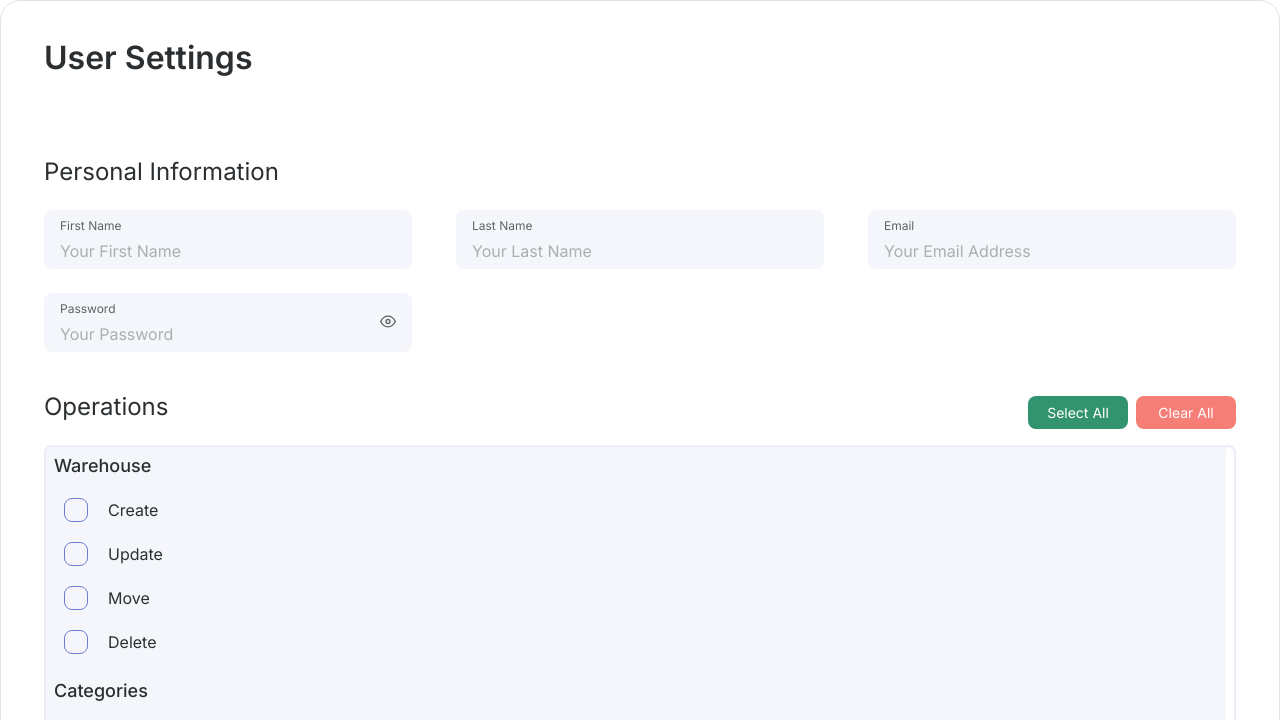
Test: UserForm.vue › clears email error after valid input on blur
Type "wrong" into the field with placeholder "Your Email Address" at (1052,251), box [884,241,1220,261]
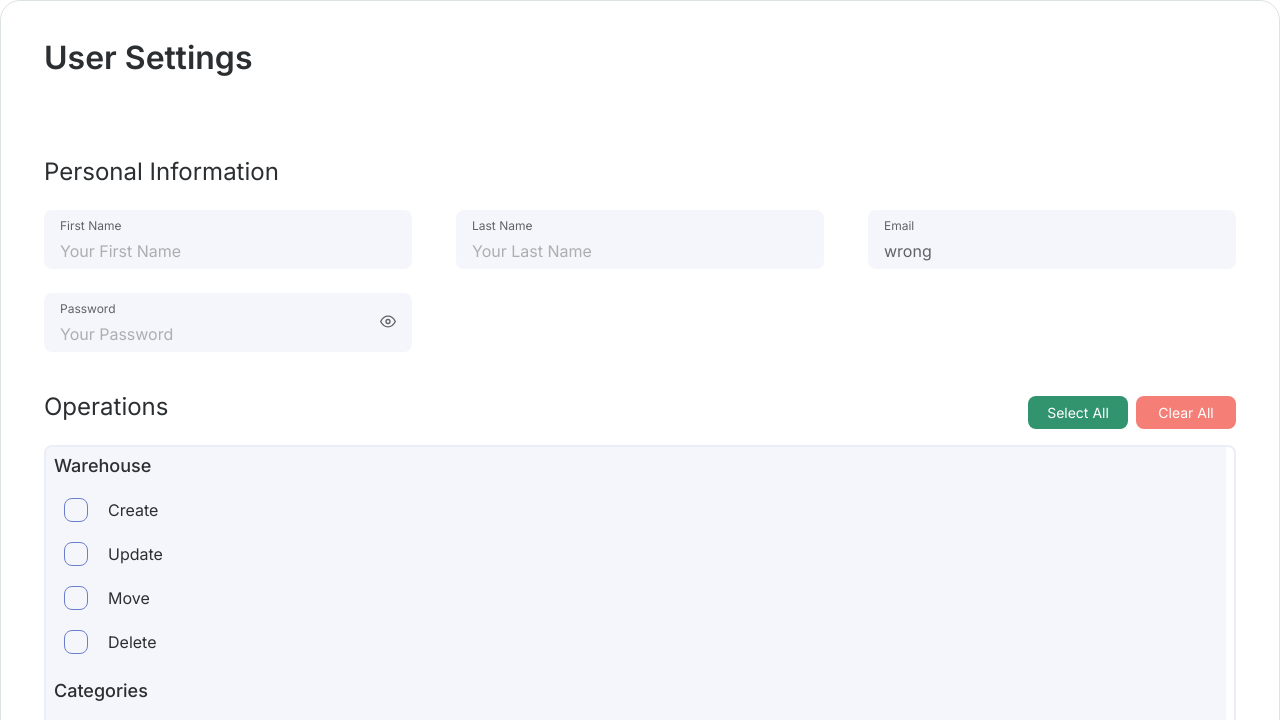
Leave the field with placeholder "Your Email Address", box [884,241,1220,261]
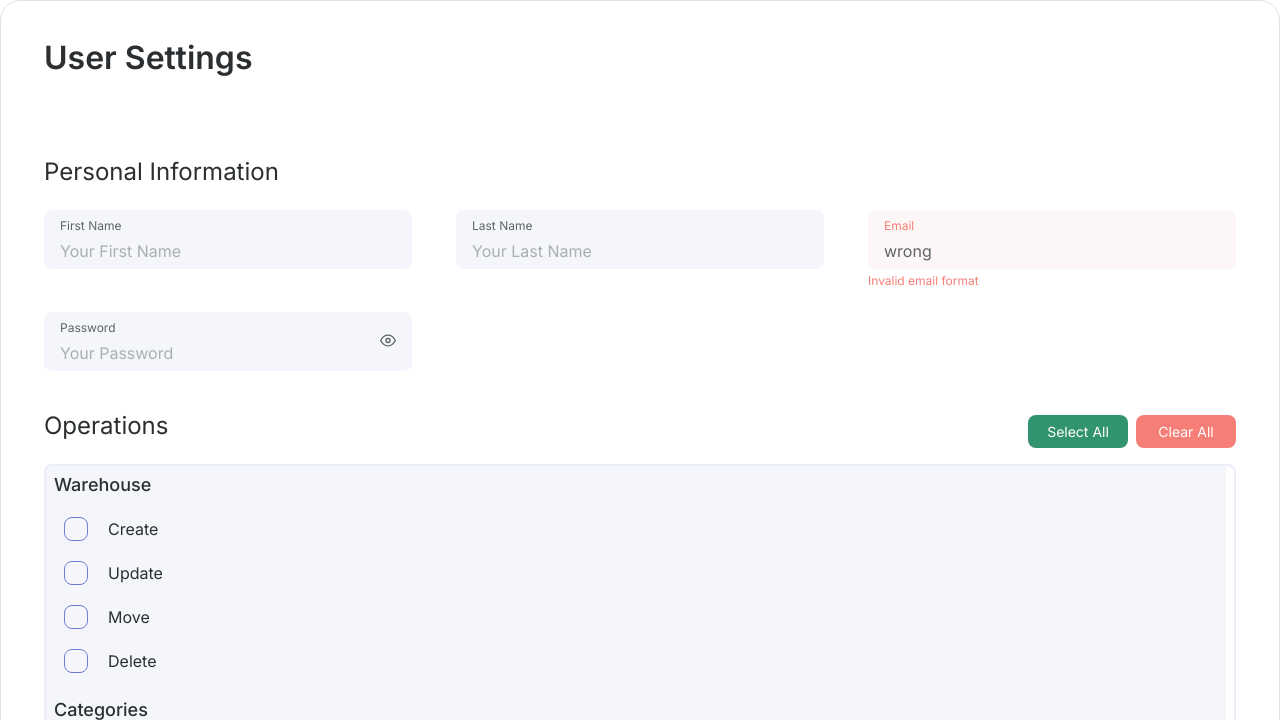
Check: the text "Invalid email format" is shown, box [868,273,979,288]
Replace the text in the field with placeholder "Your Email Address" with "correct@email.com" at (1052,251), box [884,241,1220,261]
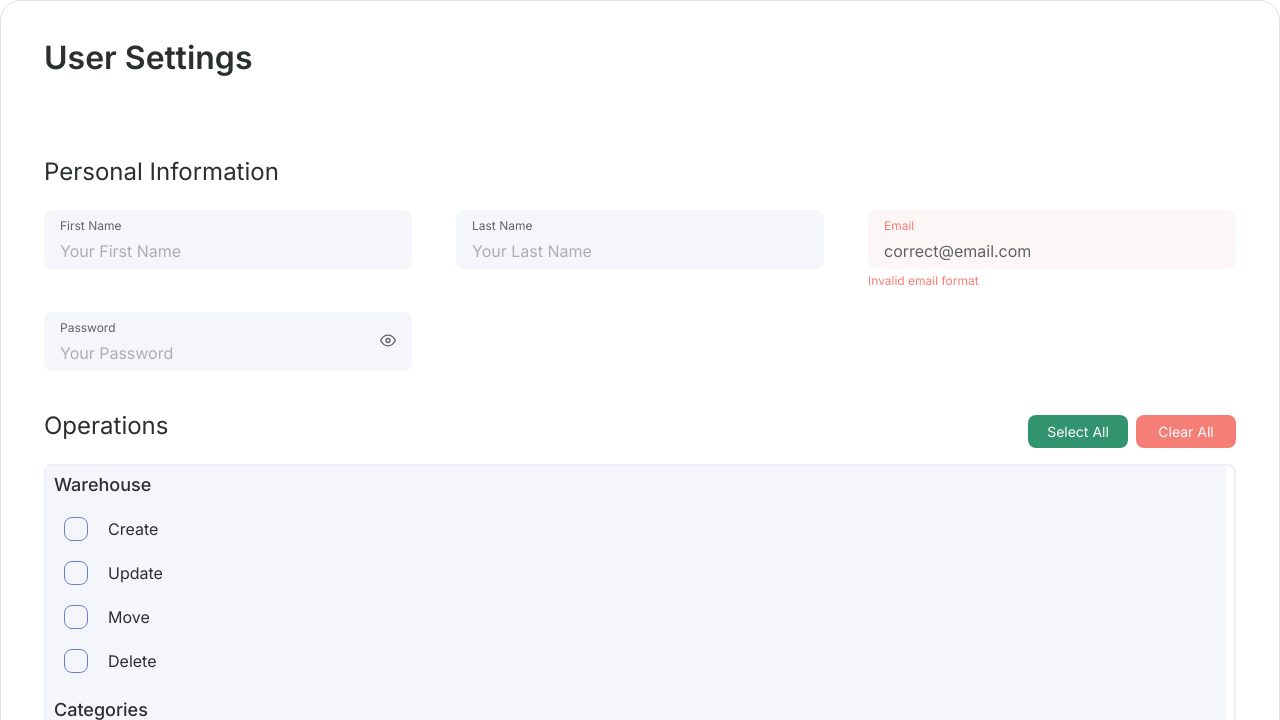
Leave the field with placeholder "Your Email Address", box [884,241,1220,261]
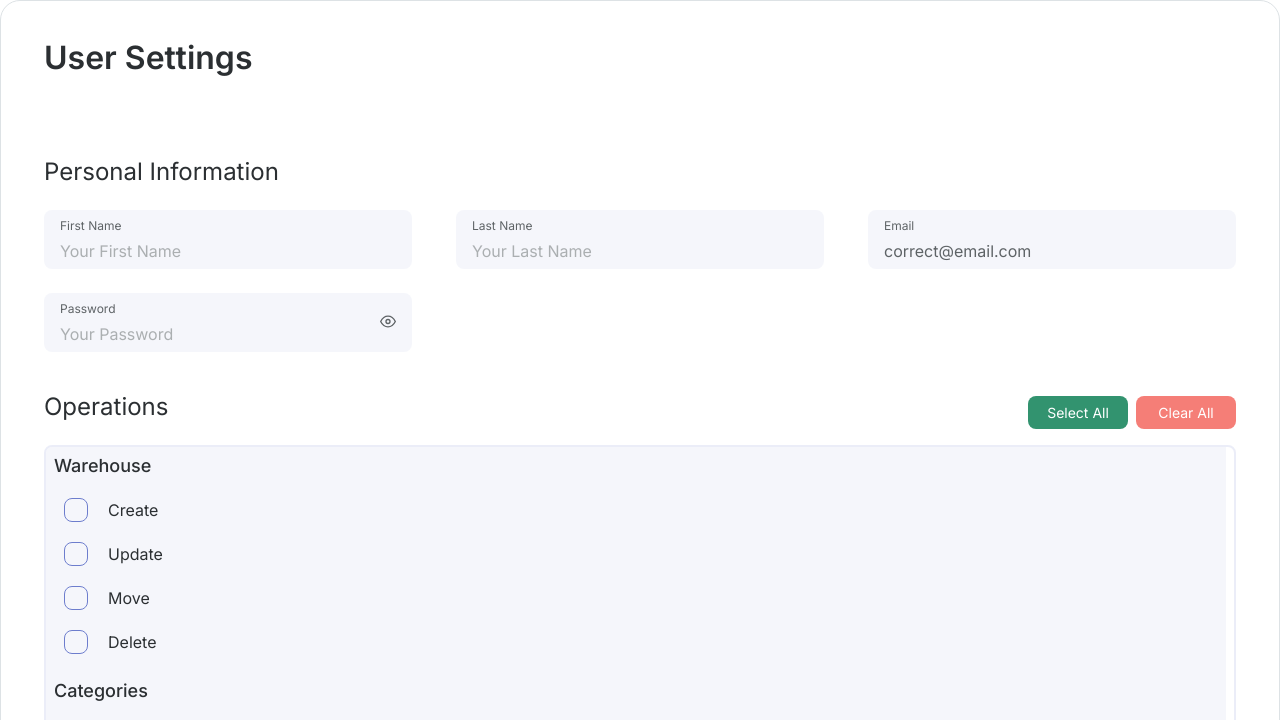
Check: the text "Invalid email format" is gone
